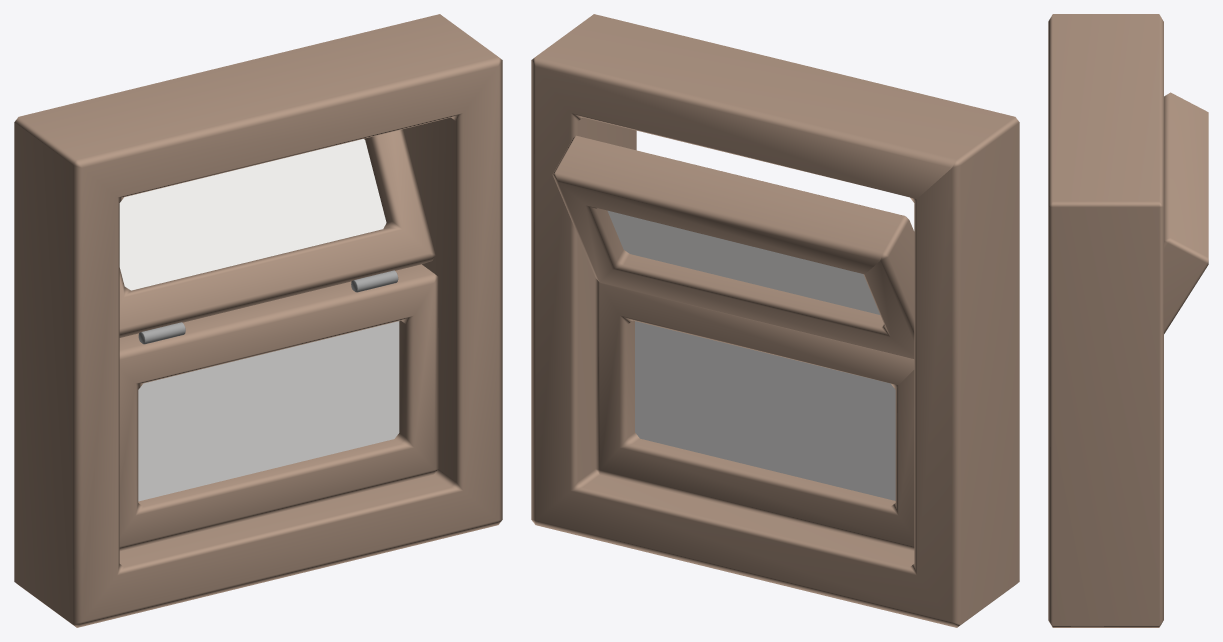
Rendered from Window_4.glb.
3 renders of one model, left to right at view 1: azimuth 30°, elevation 25°; view 2: azimuth 150°, elevation 25°; view 3: azimuth 270°, elevation 25°, orthographic. The views are drawn at different scales.
Visible parts, largest first — view 1: Window_4; view 2: Window_4; view 3: Window_4.
Boxes of the visible parts, x1,y1,x2,y2 form: Window_4: (14,14,502,627); Window_4: (531,14,1019,627); Window_4: (1048,14,1208,627).
Bounding box in the file's own units: 1.84 × 1.92 × 0.6543.
2 materials, 2 textured.
